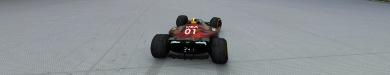Car: (149, 14, 228, 64)
